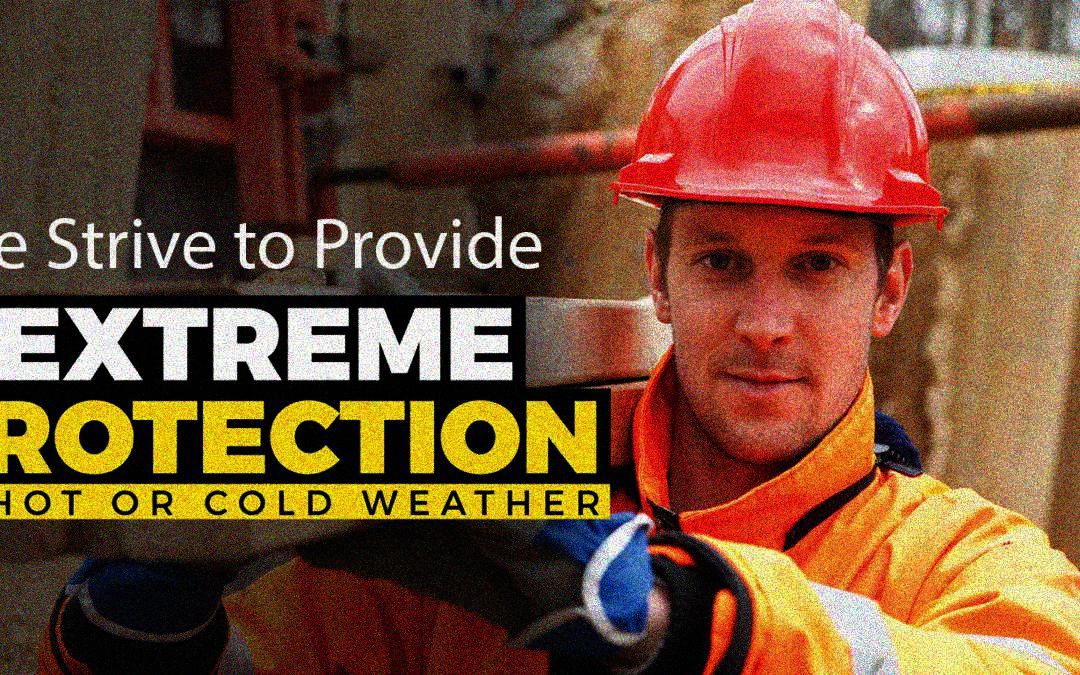helmet: (610, 1, 950, 460)
